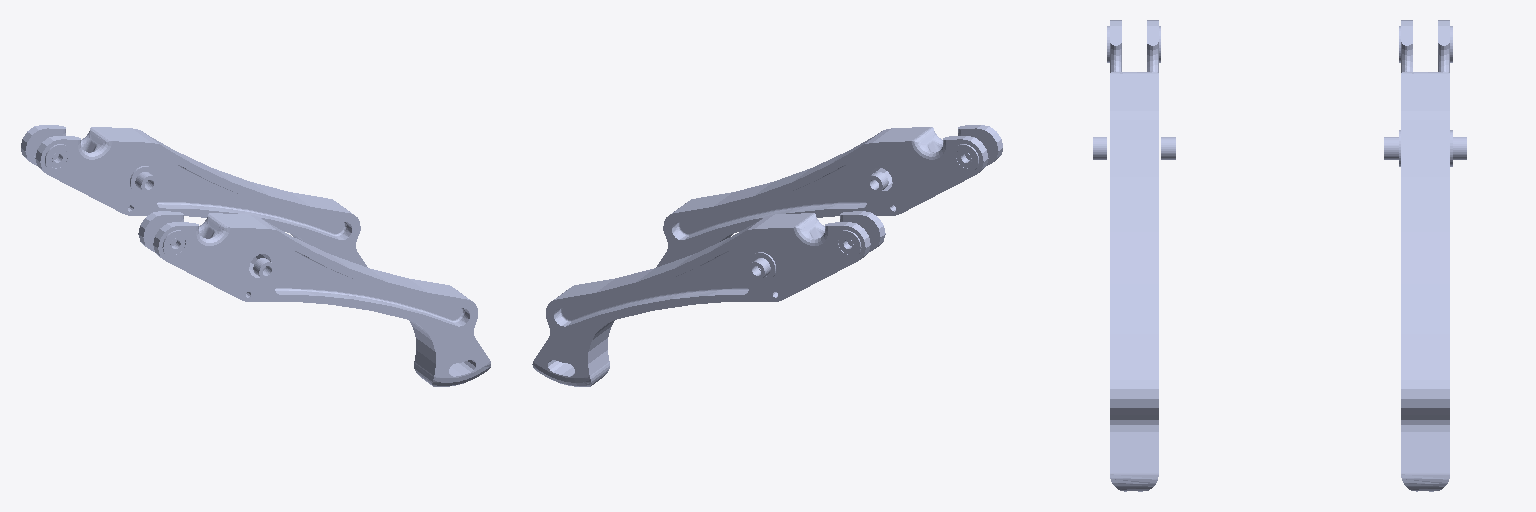
URDF robot description (dummy_robot):
<?xml version="1.0" encoding="utf-8"?>
<robot name="dummy_robot">

  <link name="base_link">
    <inertial>
      <origin xyz="-0.000049 -0.000002 -0.008721" rpy="0 0 0"/>
      <mass value="1.009050"/>
      <inertia ixx="0.005149" ixy="0.0" ixz="-0.000072" iyy="0.001621" iyz="0.0" izz="0.004071"/>
    </inertial>
    <visual>
      <origin xyz="0 0 0" rpy="0 0 0"/>
      <geometry>
        <mesh filename="package://dummy_robot/meshes/base_link.STL"/>
      </geometry>
      <material name="">
        <color rgba="0.79216 0.81961 0.93333 1"/>
      </material>
    </visual>
    <collision>
      <origin xyz="0 0 0" rpy="0 0 0"/>
      <geometry>
        <mesh filename="package://dummy_robot/meshes/base_link.STL"/>
      </geometry>
    </collision>
  </link>

  <link name="left_roll_link">
    <inertial>
      <origin xyz="-0.032001 -0.000022 0.097858" rpy="0 0 0"/>
      <mass value="0.404054"/>
      <inertia ixx="0.000285" ixy="0.0" ixz="-0.000031" iyy="0.000449" iyz="0.0" izz="0.000403"/>
    </inertial>
    <visual>
      <origin xyz="0 0 0" rpy="0 0 0"/>
      <geometry>
        <mesh filename="package://dummy_robot/meshes/left_roll_link.STL"/>
      </geometry>
      <material name="">
        <color rgba="1 1 1 1"/>
      </material>
    </visual>
    <collision>
      <origin xyz="0 0 0" rpy="0 0 0"/>
      <geometry>
        <mesh filename="package://dummy_robot/meshes/left_roll_link.STL"/>
      </geometry>
    </collision>
  </link>

  <joint name="left_roll_joint" type="revolute">
    <origin xyz="0.028789 0.065014 -0.024742" rpy="1.5708 0 -1.5708"/>
    <parent link="base_link"/>
    <child link="left_roll_link"/>
    <axis xyz="0 0 1"/>
    <limit lower="-0.873" upper="0.209" effort="7.7" velocity="23"/>
  </joint>

  <link name="left_upper_leg_link">
    <inertial>
      <origin xyz="-0.009355 -0.010527 0.084193" rpy="0 0 0"/>
      <mass value="0.480436"/>
      <inertia ixx="0.000565" ixy="0.000250" ixz="0.000083" iyy="0.000562" iyz="0.000094" izz="0.000772"/>
    </inertial>
    <visual>
      <origin xyz="0 0 0" rpy="0 0 0"/>
      <geometry>
        <mesh filename="package://dummy_robot/meshes/left_upper_leg_link.STL"/>
      </geometry>
      <material name="">
        <color rgba="1 1 1 1"/>
      </material>
    </visual>
    <collision>
      <origin xyz="0 0 0" rpy="0 0 0"/>
      <geometry>
        <mesh filename="package://dummy_robot/meshes/left_upper_leg_link.STL"/>
      </geometry>
    </collision>
  </link>

  <joint name="left_upper_leg_joint" type="revolute">
    <origin xyz="-0.066486 0 0.101" rpy="0 1.5708 0"/>
    <parent link="left_roll_link"/>
    <child link="left_upper_leg_link"/>
    <axis xyz="0 0 1"/>
    <limit lower="-0.785398" upper="0.785398" effort="7.7" velocity="23"/>
  </joint>

  <link name="left_lower_leg_link">
    <inertial>
      <origin xyz="0.043145 0.025235 -0.015000" rpy="0 0 0"/>
      <mass value="0.085199"/>
      <inertia ixx="0.000101" ixy="0.000149" ixz="0.0" iyy="0.000265" iyz="0.0" izz="0.000360"/>
    </inertial>
    <visual>
      <origin xyz="0 0 0" rpy="0 0 0"/>
      <geometry>
        <mesh filename="package://dummy_robot/meshes/left_lower_leg_link.STL"/>
      </geometry>
      <material name="">
        <color rgba="0.792156862745098 0.819607843137255 0.933333333333333 1"/>
      </material>
    </visual>
    <collision>
      <origin xyz="0 0 0" rpy="0 0 0"/>
      <geometry>
        <mesh filename="package://dummy_robot/meshes/left_lower_leg_link.STL"/>
      </geometry>
    </collision>
  </link>

  <joint name="left_lower_leg_joint" type="revolute">
    <origin xyz="-0.091922 -0.091926 0.057" rpy="-3.1416 0 0"/>
    <parent link="left_upper_leg_link"/>
    <child link="left_lower_leg_link"/>
    <axis xyz="0 0 1"/>
    <limit lower="-0.523599" upper="0.785398" effort="7.7" velocity="23"/>
  </joint>

  <link name="right_roll_link">
    <inertial>
      <origin xyz="0.032001 -0.000058 0.097814" rpy="0 0 0"/>
      <mass value="0.404054"/>
      <inertia ixx="0.000285" ixy="-0.000001" ixz="0.000030" iyy="0.000449" iyz="0.0" izz="0.000403"/>
    </inertial>
    <visual>
      <origin xyz="0 0 0" rpy="0 0 0"/>
      <geometry>
        <mesh filename="package://dummy_robot/meshes/right_roll_link.STL"/>
      </geometry>
      <material name="">
        <color rgba="1 1 1 1"/>
      </material>
    </visual>
    <collision>
      <origin xyz="0 0 0" rpy="0 0 0"/>
      <geometry>
        <mesh filename="package://dummy_robot/meshes/right_roll_link.STL"/>
      </geometry>
    </collision>
  </link>

  <joint name="right_roll_joint" type="revolute">
    <origin xyz="0.028789 -0.065014 -0.024742" rpy="1.5708 0 -1.5708"/>
    <parent link="base_link"/>
    <child link="right_roll_link"/>
    <axis xyz="0 0 1"/>
    <limit lower="-0.209" upper="0.873" effort="7.7" velocity="23"/>
  </joint>

  <link name="right_upper_leg_link">
    <inertial>
      <origin xyz="-0.009340 0.010565 0.084193" rpy="0 0 0"/>
      <mass value="0.480436"/>
      <inertia ixx="0.000565" ixy="-0.000250" ixz="0.000083" iyy="0.000562" iyz="-0.000094" izz="0.000771"/>
    </inertial>
    <visual>
      <origin xyz="0 0 0" rpy="0 0 0"/>
      <geometry>
        <mesh filename="package://dummy_robot/meshes/right_upper_leg_link.STL"/>
      </geometry>
      <material name="">
        <color rgba="1 1 1 1"/>
      </material>
    </visual>
    <collision>
      <origin xyz="0 0 0" rpy="0 0 0"/>
      <geometry>
        <mesh filename="package://dummy_robot/meshes/right_upper_leg_link.STL"/>
      </geometry>
    </collision>
  </link>

  <joint name="right_upper_leg_joint" type="revolute">
    <origin xyz="0.066486 0 0.101" rpy="3.1416 1.5708 0"/>
    <parent link="right_roll_link"/>
    <child link="right_upper_leg_link"/>
    <axis xyz="0 0 1"/>
    <limit lower="-0.785398" upper="0.785398" effort="7.7" velocity="23"/>
  </joint>

  <link name="right_lower_leg_link">
    <inertial>
      <origin xyz="0.043145 -0.025235 -0.015000" rpy="0 0 0"/>
      <mass value="0.085199"/>
      <inertia ixx="0.000101" ixy="-0.000149" ixz="0.0" iyy="0.000265" iyz="0.0" izz="0.000360"/>
    </inertial>
    <visual>
      <origin xyz="0 0 0" rpy="0 0 0"/>
      <geometry>
        <mesh filename="package://dummy_robot/meshes/right_lower_leg_link.STL"/>
      </geometry>
      <material name="">
        <color rgba="0.792156862745098 0.819607843137255 0.933333333333333 1"/>
      </material>
    </visual>
    <collision>
      <origin xyz="0 0 0" rpy="0 0 0"/>
      <geometry>
        <mesh filename="package://dummy_robot/meshes/right_lower_leg_link.STL"/>
      </geometry>
    </collision>
  </link>

  <joint name="right_lower_leg_joint" type="revolute">
    <origin xyz="-0.091922 0.091926 0.057" rpy="-3.1416 0 0"/>
    <parent link="right_upper_leg_link"/>
    <child link="right_lower_leg_link"/>
    <axis xyz="0 0 1"/>
    <limit lower="-0.785398" upper="0.523599" effort="7.7" velocity="23"/>
  </joint>

</robot>

--- Facts derived from the render (not from the file) ---
The picture shows the robot from 3 angles, left to right: view 1: azimuth 30°, elevation 25°; view 2: azimuth 150°, elevation 25°; view 3: azimuth 270°, elevation 25°; orthographic projection.
Robot: dummy_robot — 7 links, 6 joints (6 revolute); root link base_link; default pose: all joints at 0.
Links seen in each view (by area): view 1: right_lower_leg_link, left_lower_leg_link; view 2: left_lower_leg_link, right_lower_leg_link; view 3: left_lower_leg_link, right_lower_leg_link.
Boxes of the visible links, <box> form: right_lower_leg_link: <box>138,211,490,386</box>; left_lower_leg_link: <box>21,125,367,267</box>; left_lower_leg_link: <box>532,211,885,386</box>; right_lower_leg_link: <box>656,125,1002,267</box>; left_lower_leg_link: <box>1384,20,1466,491</box>; right_lower_leg_link: <box>1093,20,1175,491</box>.
Size in the robot's own frame: 0.1945 by 0.153 by 0.1296 metres.
2 mesh visuals loaded from 7 distinct referenced files (2 binary STL); not drawn: 5 (reference not matched to a file when rendering).